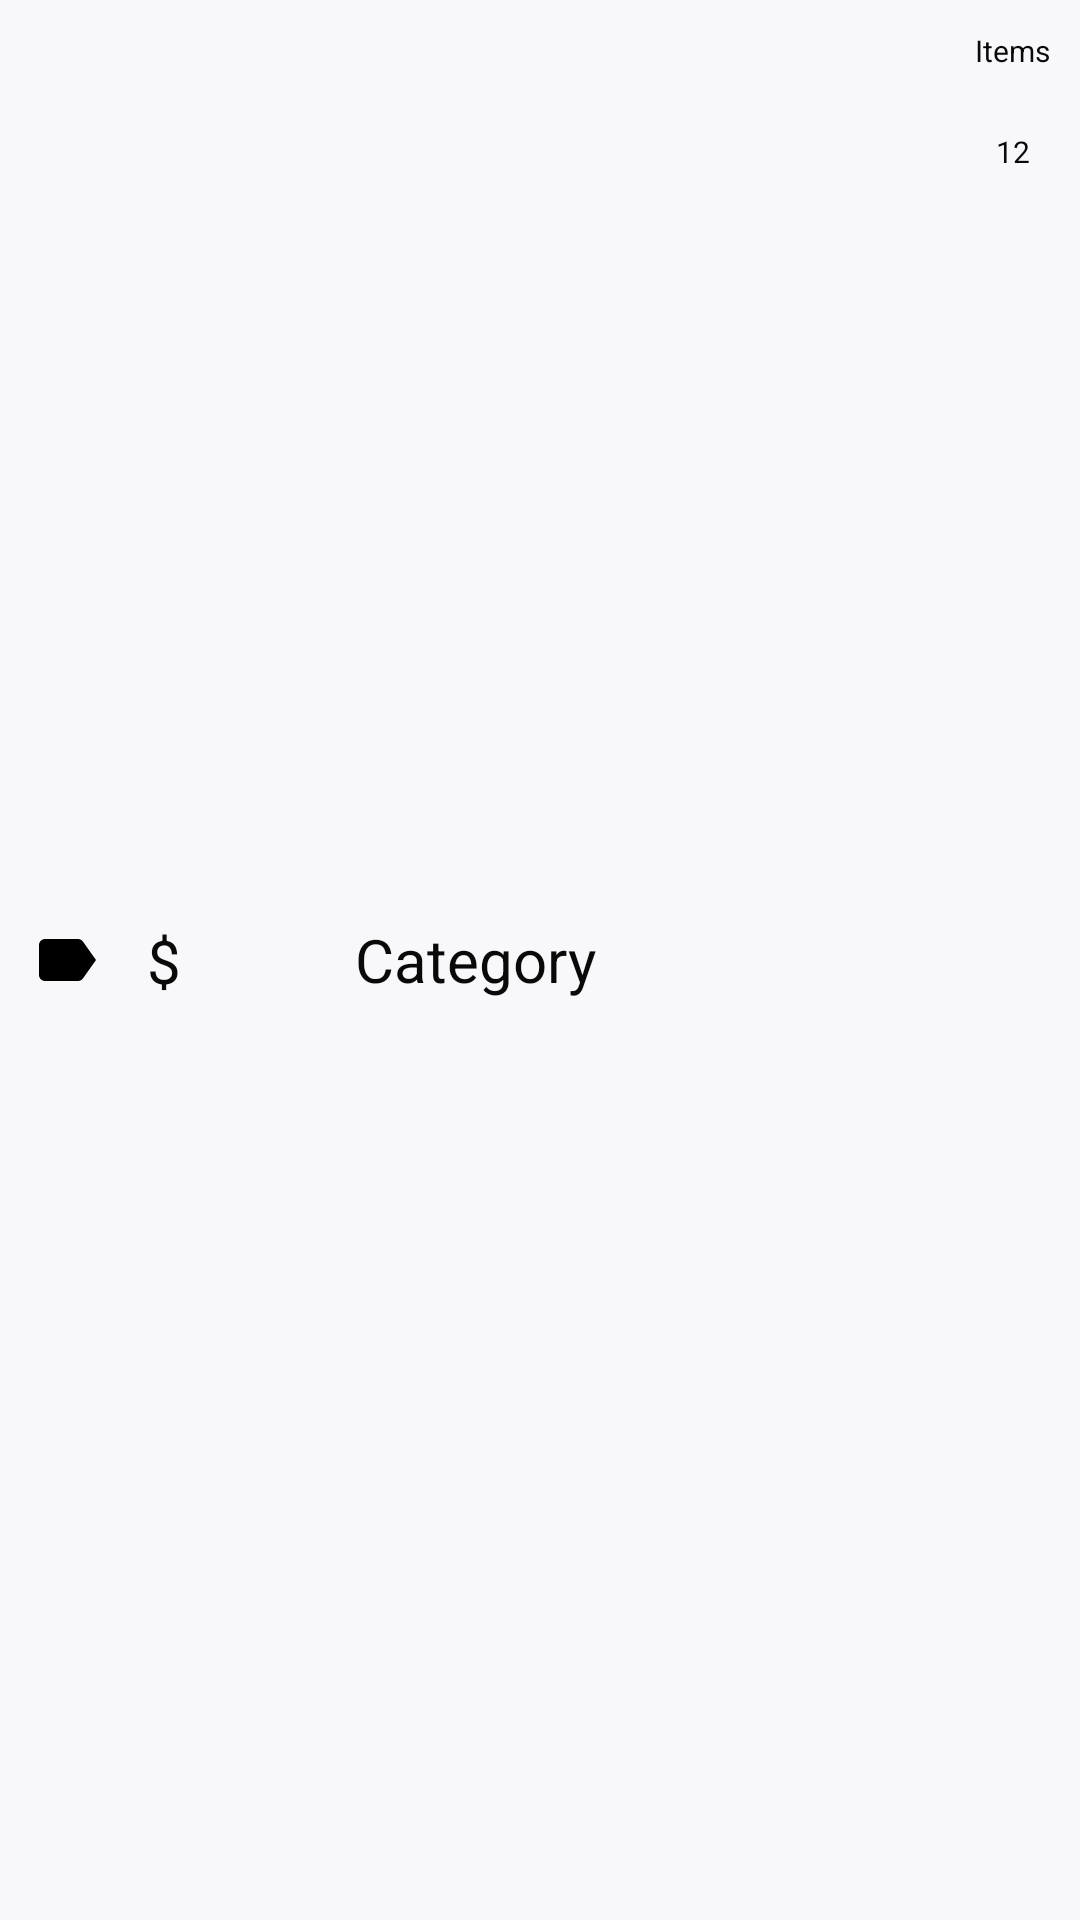

Screen size 1080×1920. Icon name, then its box in pixels as [x1,y1,x2,y2]:
label: [39,939,96,981]
